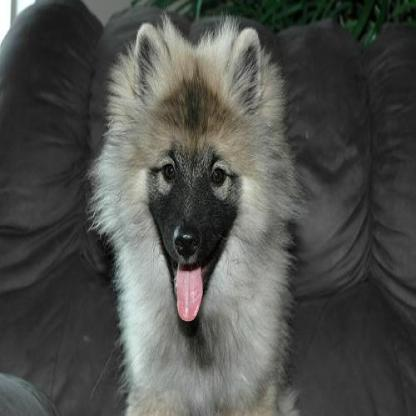keeshond: (85, 12, 300, 414)
